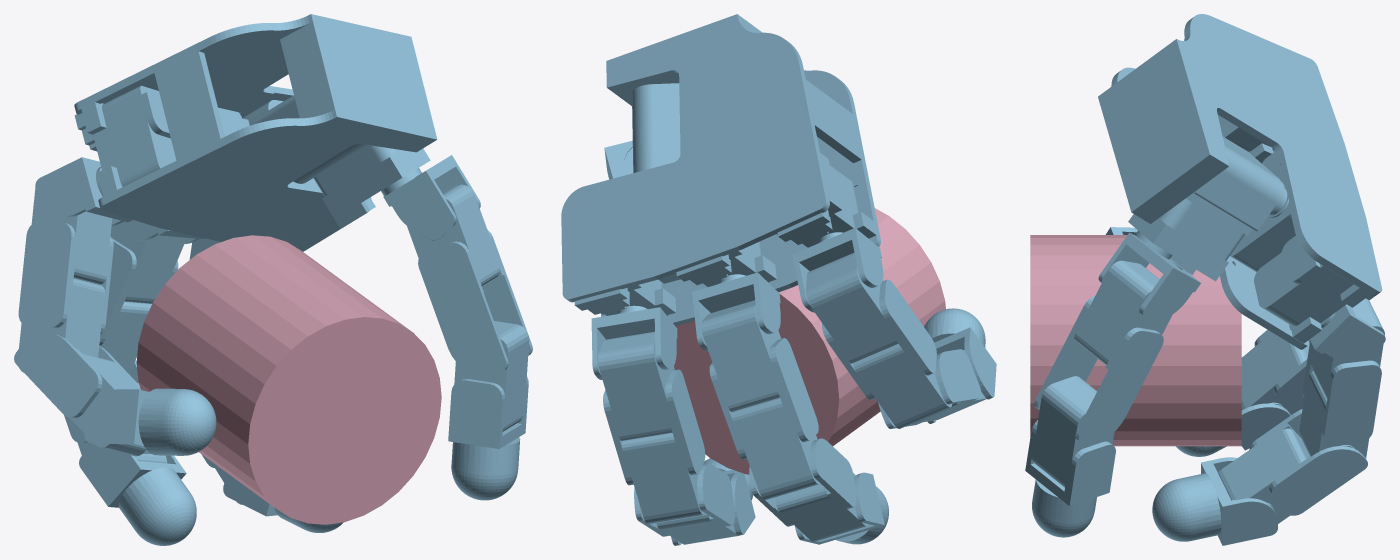
3 renders of one model, left to right at view 1: azimuth 30°, elevation 25°; view 2: azimuth 150°, elevation 25°; view 3: azimuth 270°, elevation 25°, orthographic. The views are drawn at different scales.
Visible parts, largest first — view 1: world, cylinder_medium.stl; view 2: world, cylinder_medium.stl; view 3: world, cylinder_medium.stl.
Part boxes in pixels (<box>): world: <box>14,14,532,545</box>; cylinder_medium.stl: <box>136,235,441,524</box>; world: <box>561,14,996,545</box>; cylinder_medium.stl: <box>674,208,945,474</box>; world: <box>1025,14,1385,545</box>; cylinder_medium.stl: <box>1030,235,1241,446</box>.
Bounding box in the file's own units: 0.1778 × 0.2063 × 0.1363.
